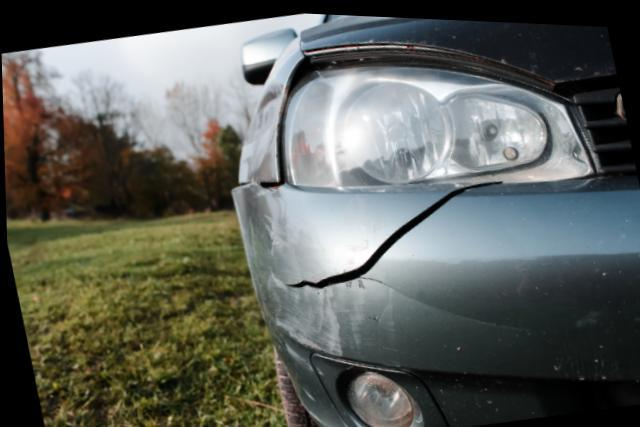crack: (282, 176, 528, 326)
scratch: (260, 281, 387, 354)
